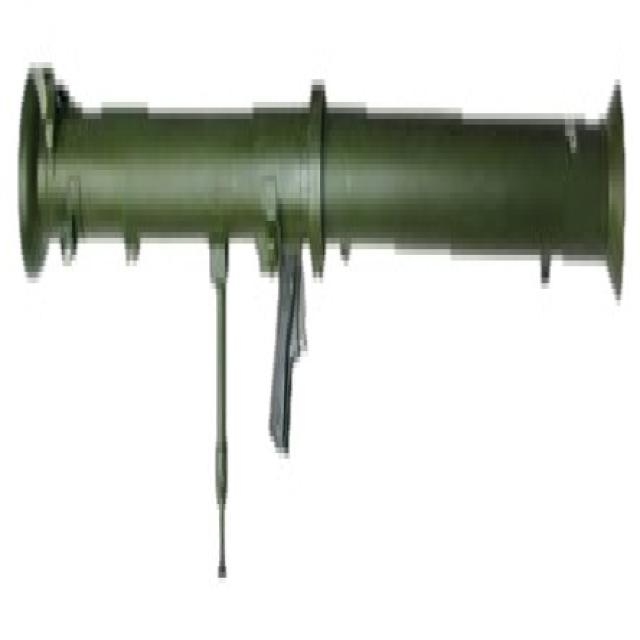bazooka: (14, 58, 629, 611)
